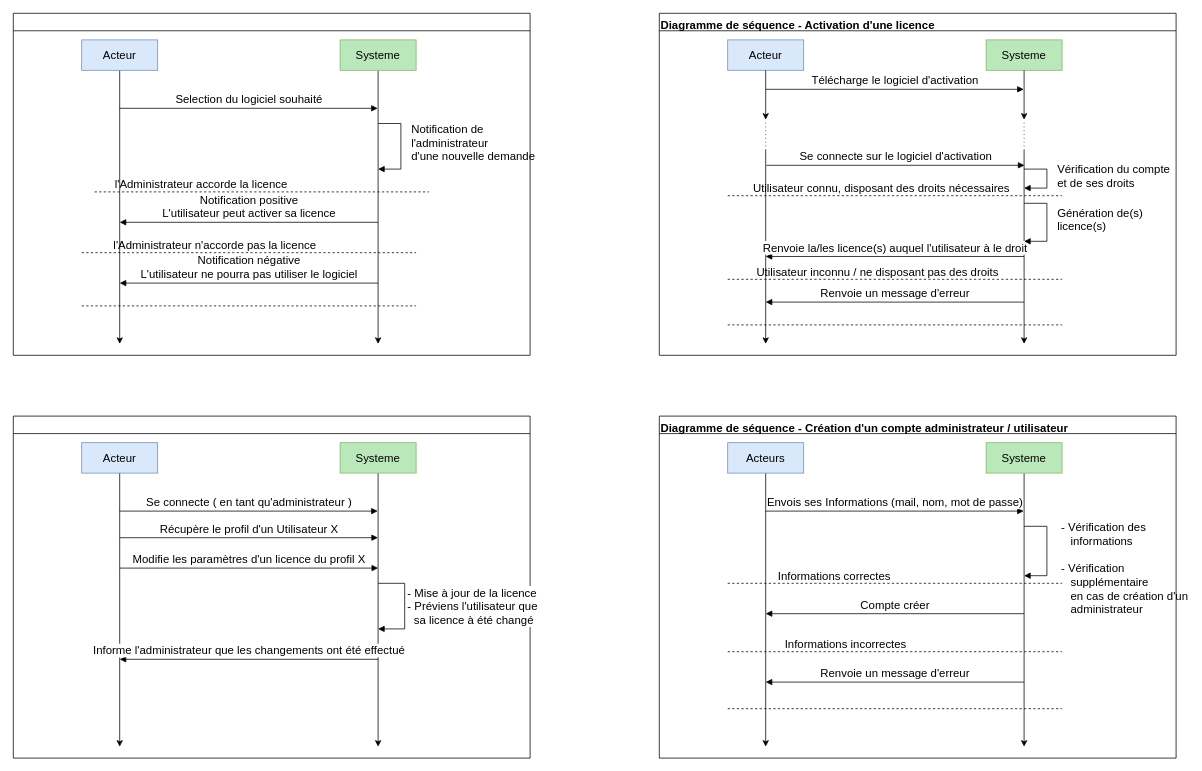
Some shapes in this 1202 by 771 pixel diagram are drawn without their labels. The centre of each missing label's shape, as x and y in pixels:
Diagramme de séquence - Demande d'une Licence: point 271,184
Diagramme de séquence - Paramétrage d'une licence: point 271,586
